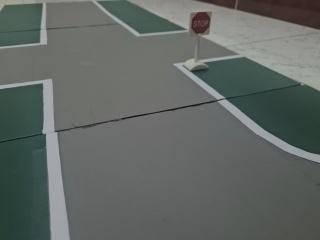stop: (188, 7, 218, 38)
